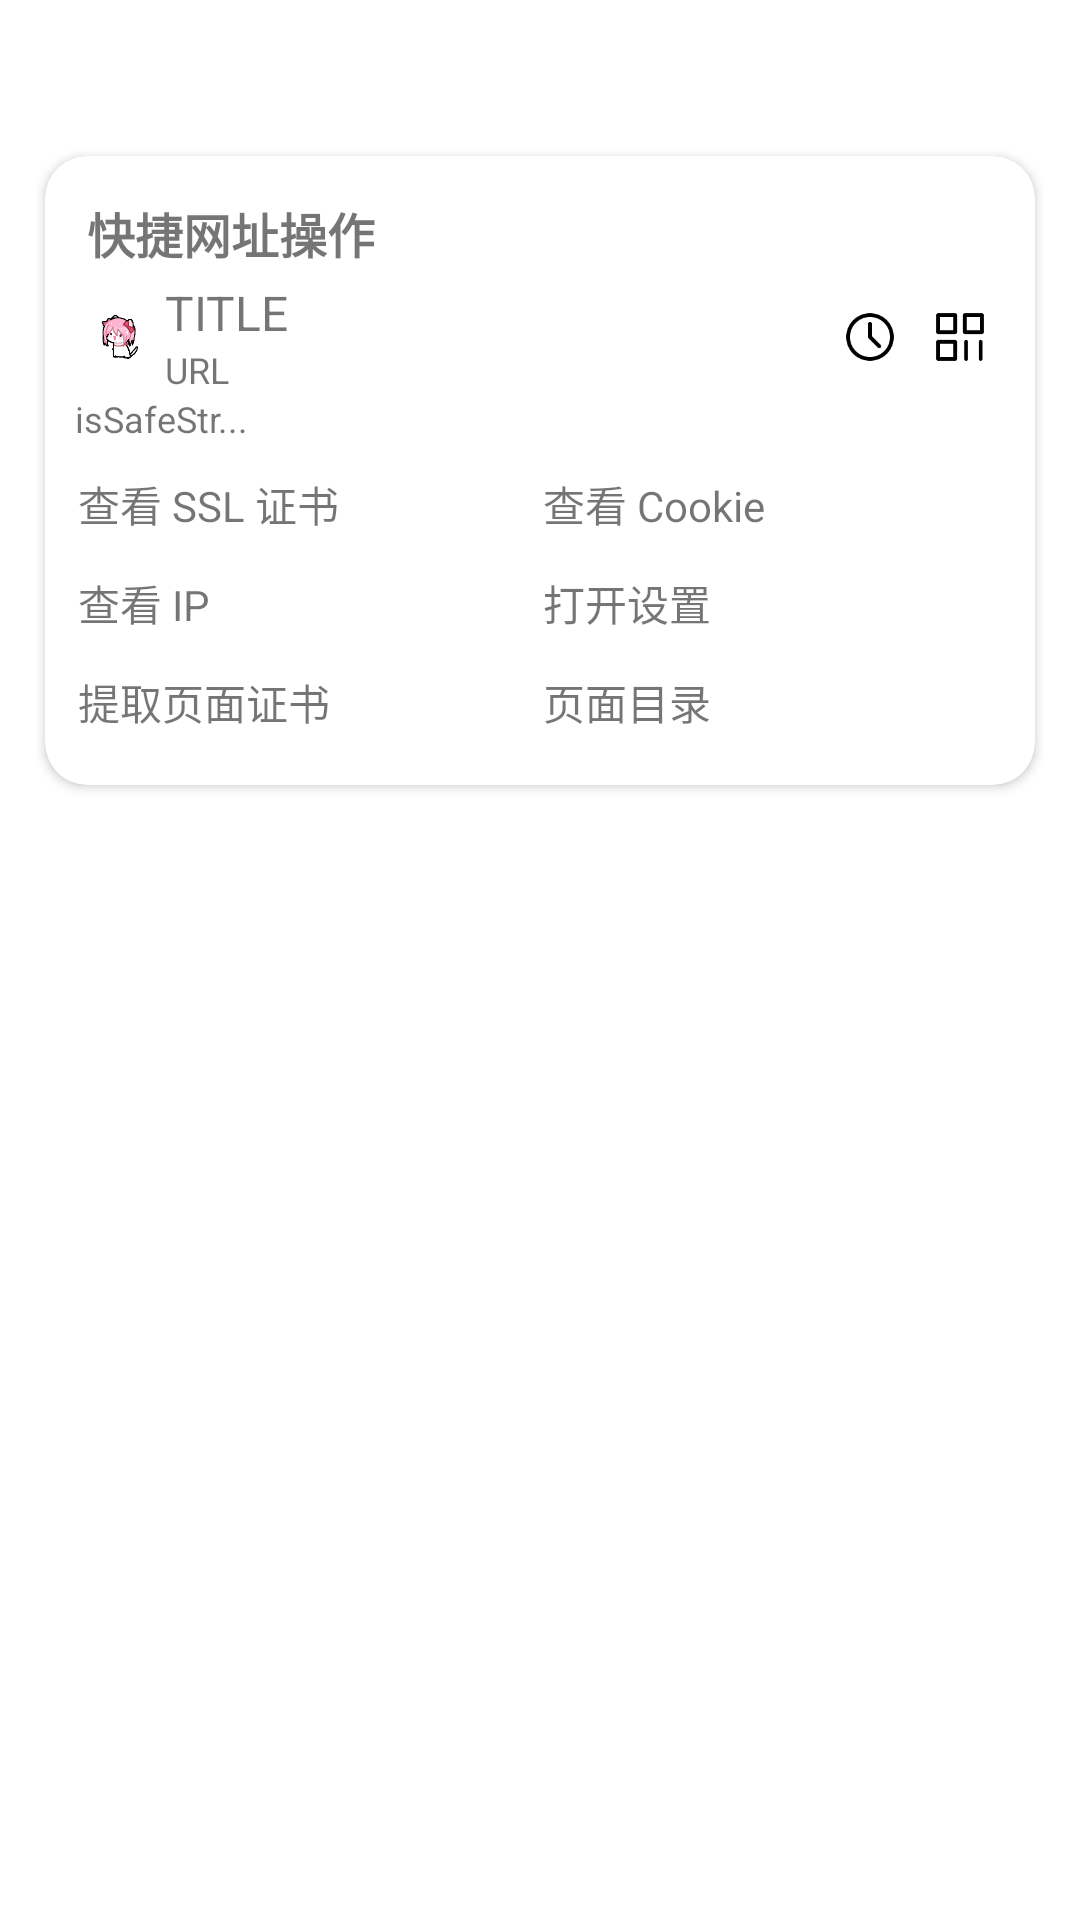

Where to tap for icons on this 1080×1920 app screen, as (x,y):
history: (870,337)
qrcode: (960,337)
